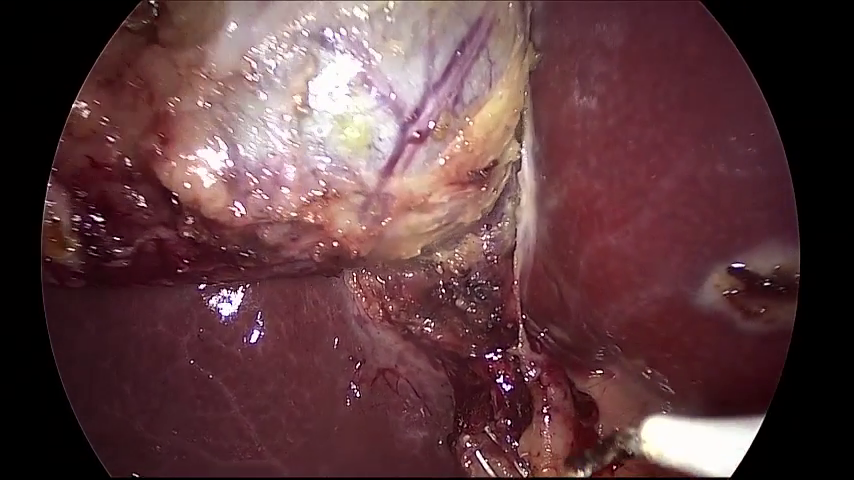lhook: (572, 414, 763, 477)
